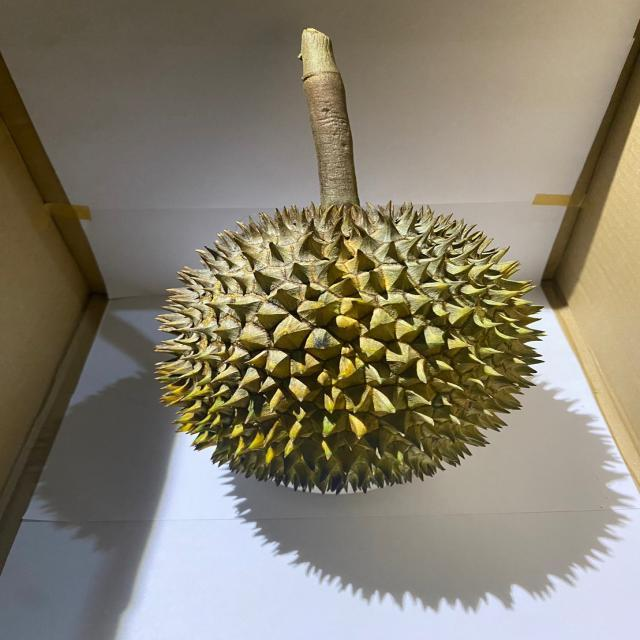immature: (155, 202, 547, 496)
